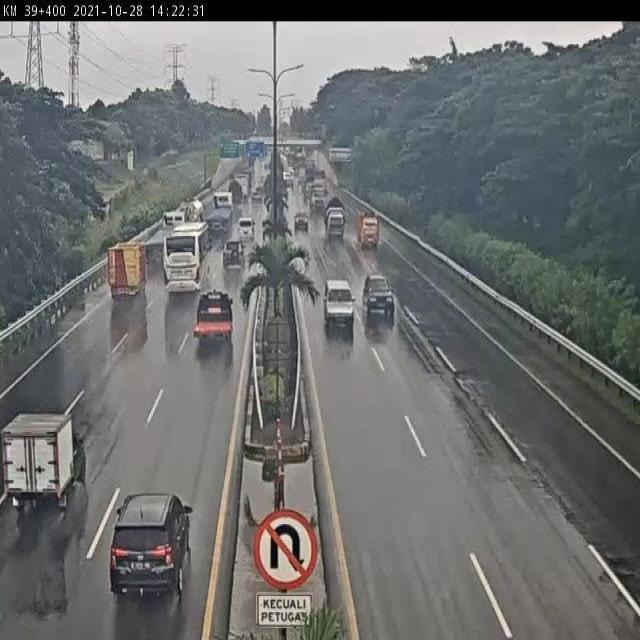ARABA: (109, 492, 193, 597), (2, 413, 88, 511), (363, 275, 394, 316), (222, 238, 246, 266)
KAMYONET: (106, 237, 149, 295), (194, 291, 234, 344), (170, 193, 206, 239), (355, 207, 381, 252), (323, 196, 346, 243)
OTOBUS: (159, 220, 211, 296)
TIR: (134, 208, 187, 263), (198, 188, 233, 243)
